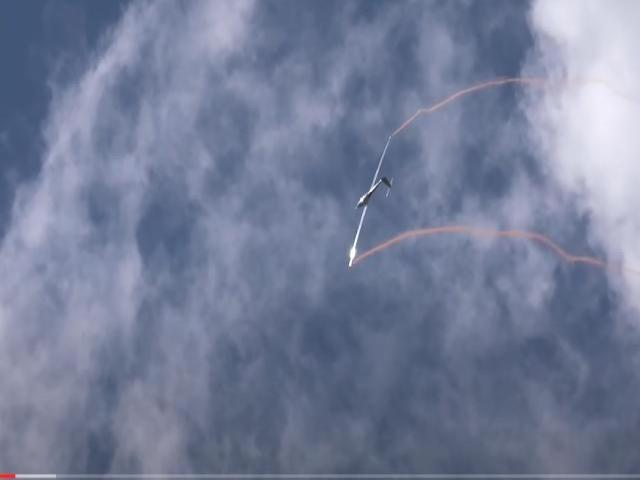iha: (348, 137, 391, 266)
